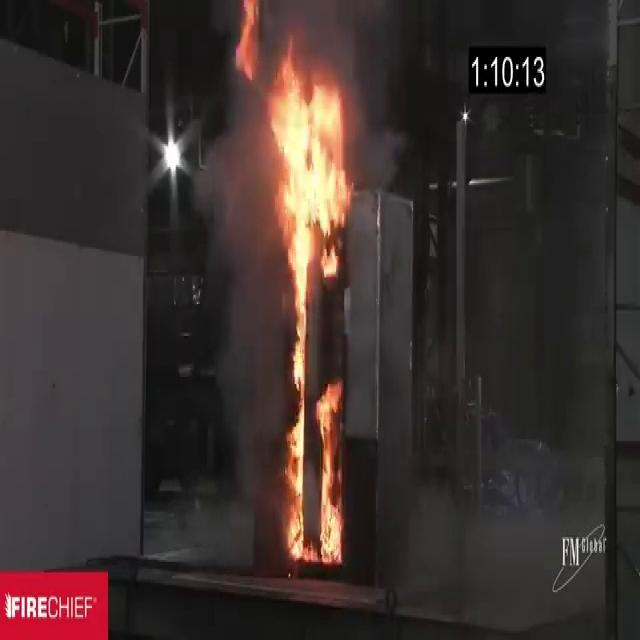fire: (225, 1, 357, 587)
